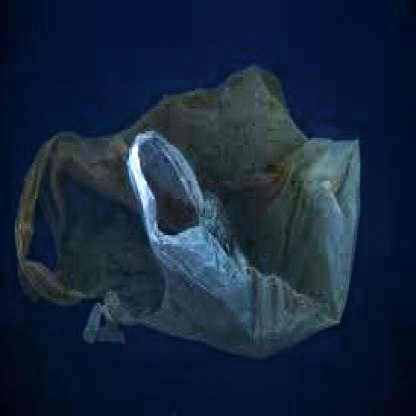pbag: (14, 63, 363, 362)
